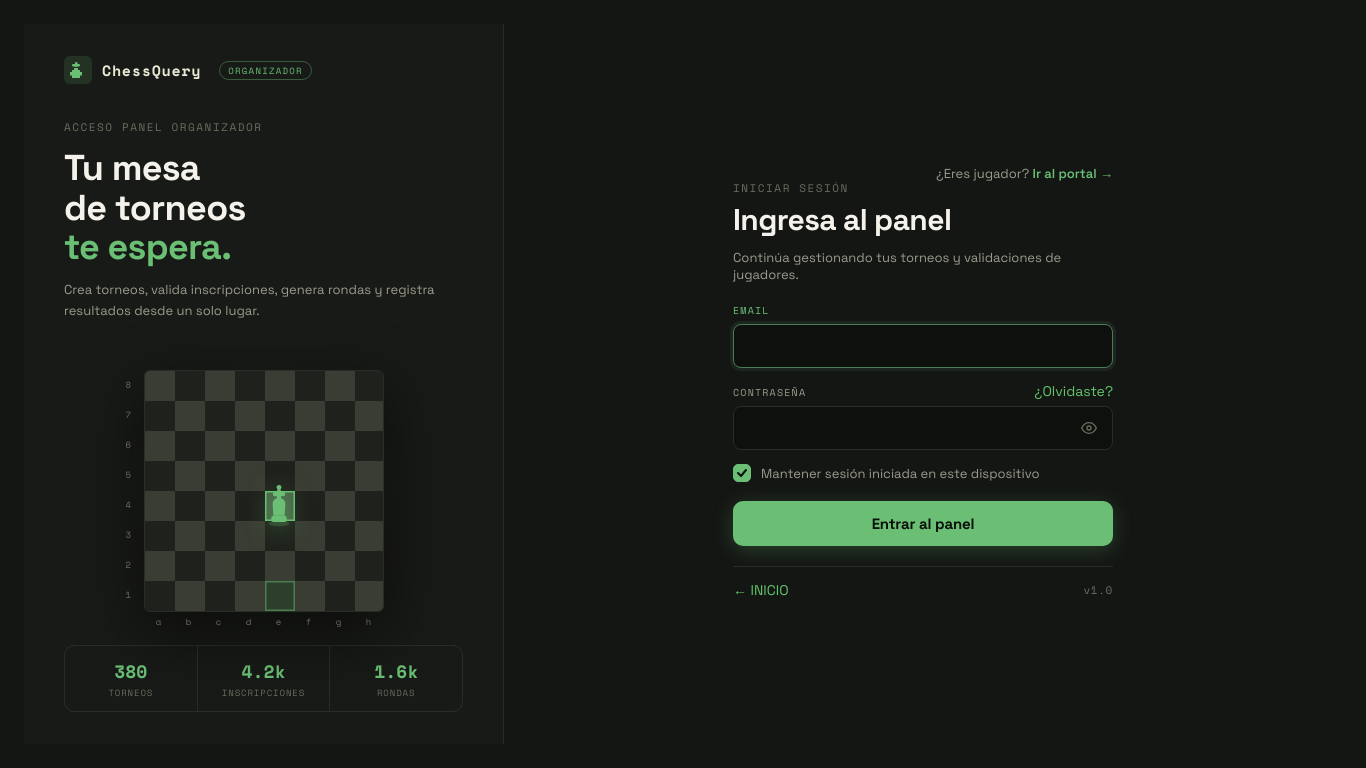
Test: Organizer LoginPage › muestra error de email inválido al submitear con formato malo
Type "sin-arroba" into the field named "email".
click(923, 346); type("sin-arroba")  # box [733,324,1113,368]
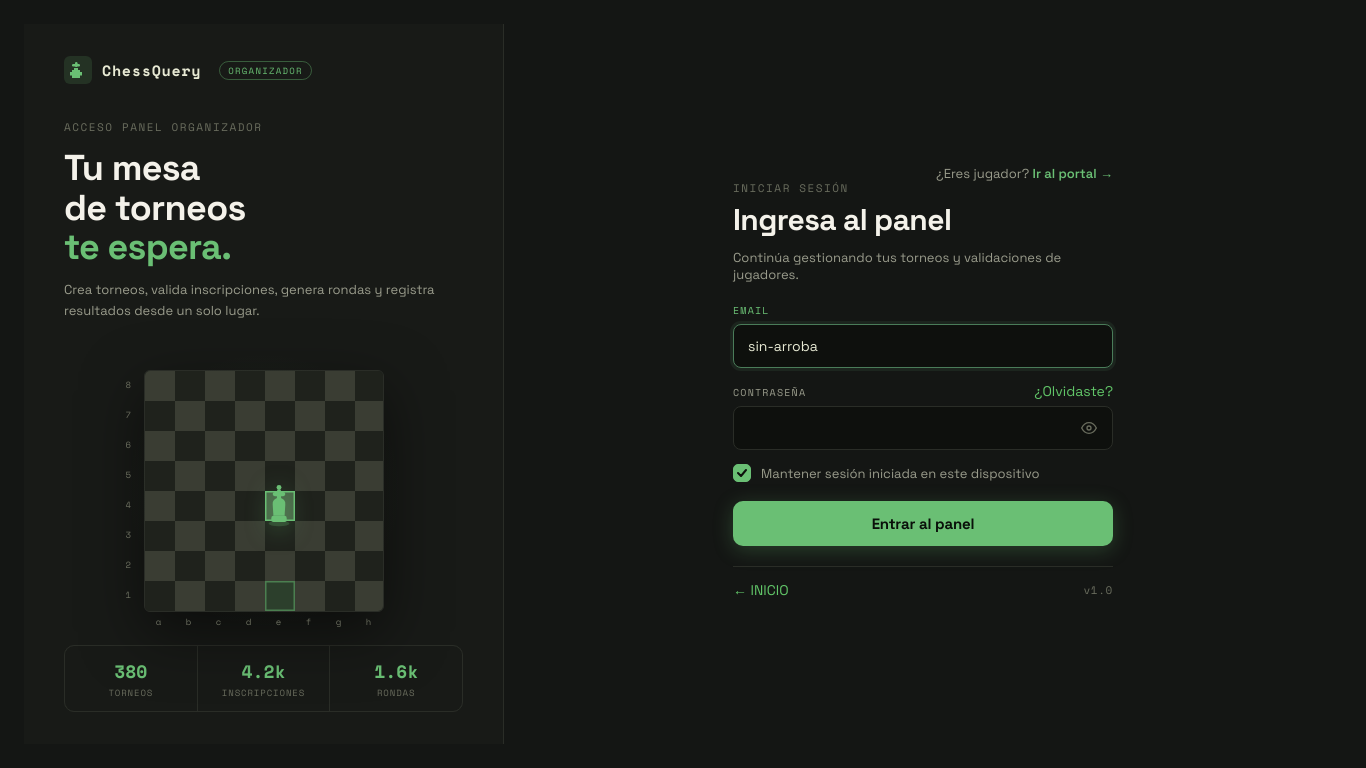
Type "algo" into the password field named "password".
click(923, 428); type("algo")  # box [733,406,1113,450]
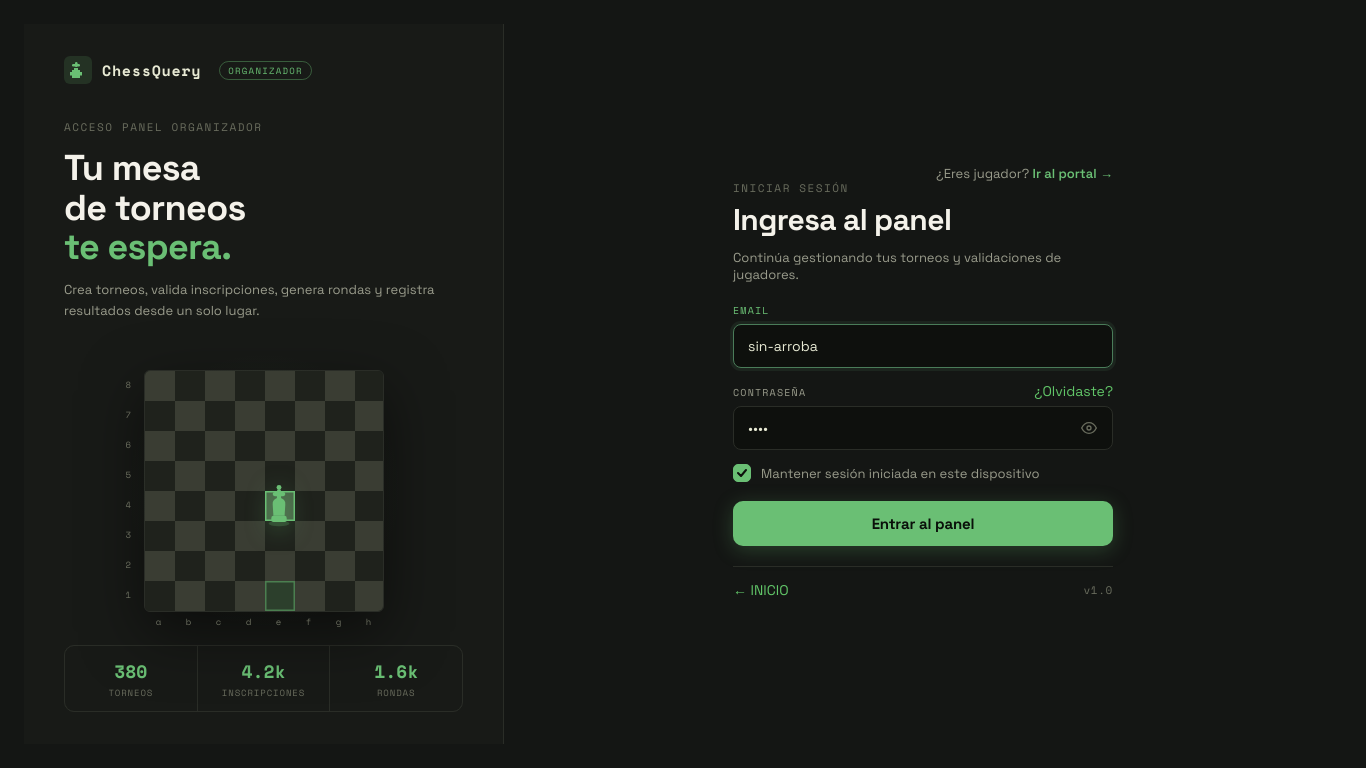
Submit the form, box [733,302,1113,599]
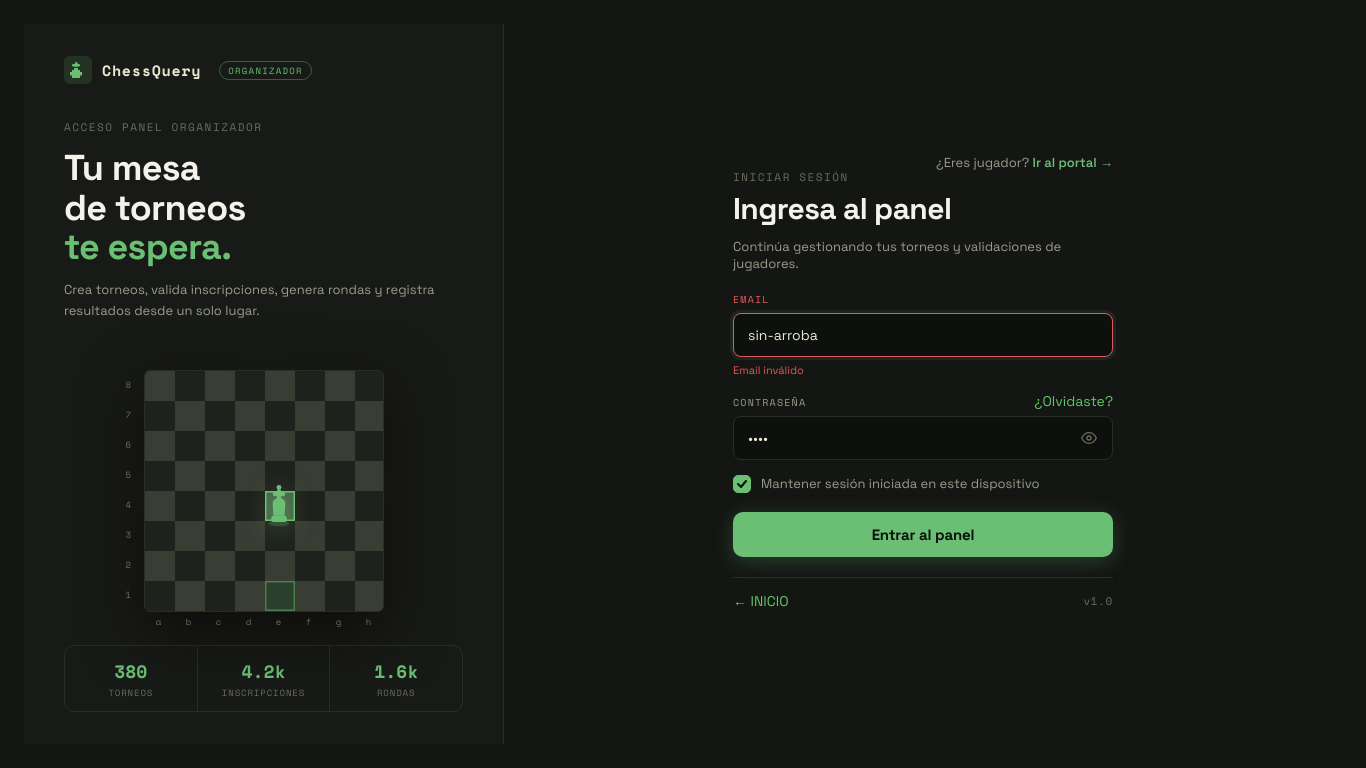
Expected: the text "Email inválido" is shown, [733,363,804,377]
